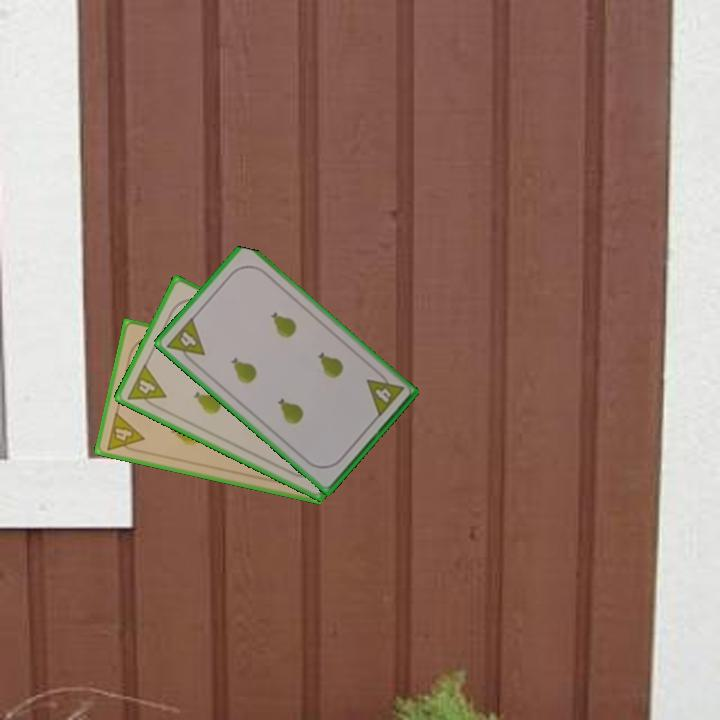4p: (123, 360, 169, 413), (163, 314, 208, 368), (363, 367, 406, 420), (103, 409, 147, 456)
